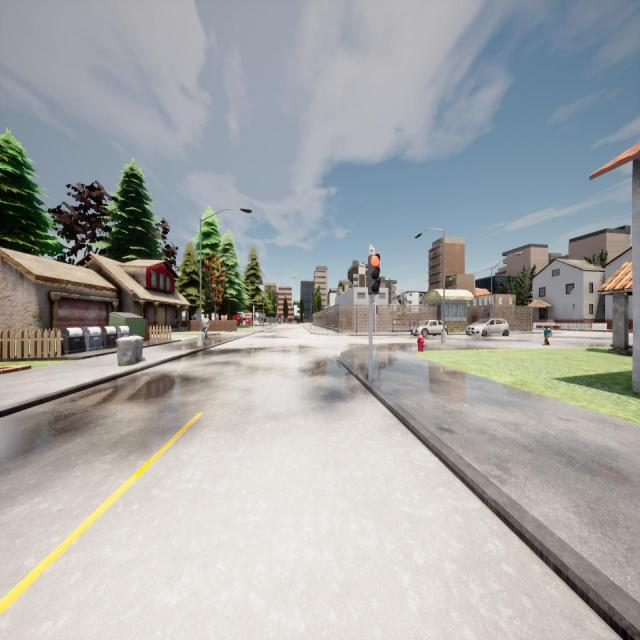Pedestrian: (203, 314, 209, 338), (544, 326, 551, 345)
Vehicle: (466, 319, 509, 337), (411, 320, 448, 336)
traffic_light: (368, 255, 380, 294), (376, 305, 378, 315), (254, 308, 255, 314), (303, 313, 304, 317)
